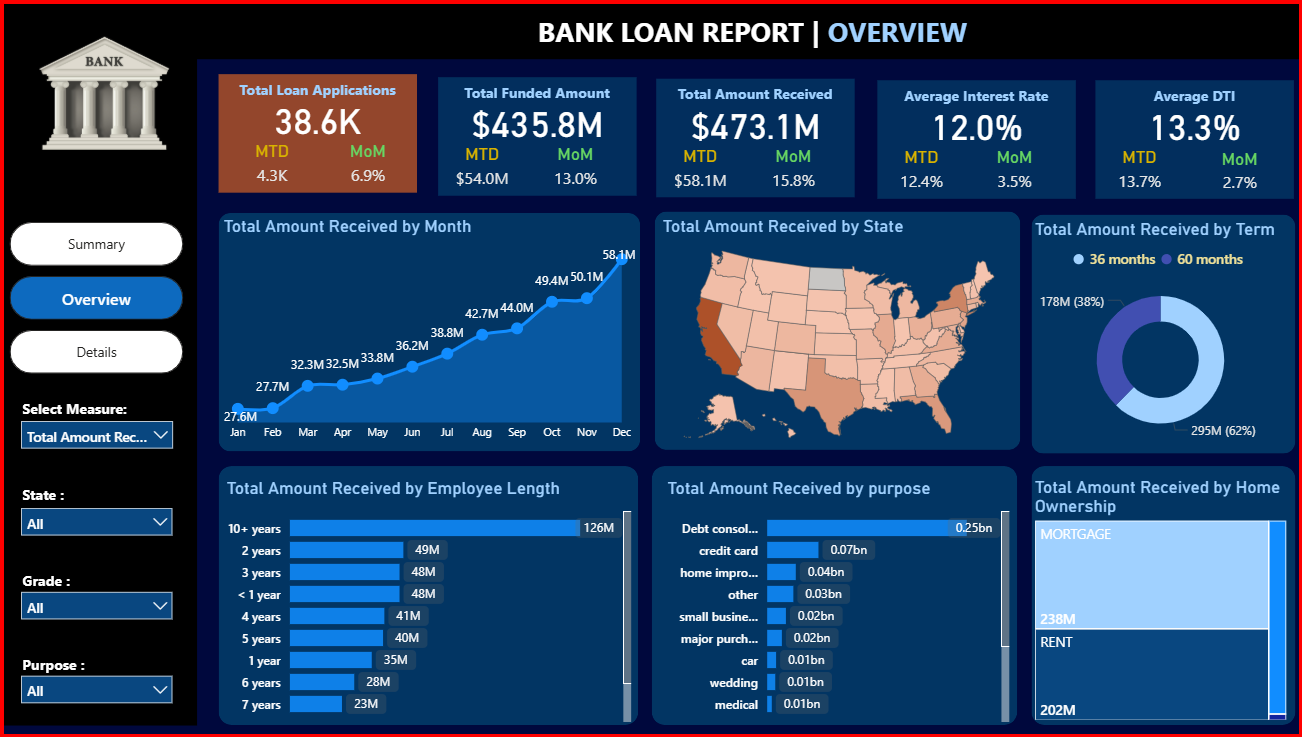

This screenshot's page, from the dashboard's own definition file:
{"tool":"powerbi","page":{"name":"Overview","canvas":[1280,720],"ordinal":1},"visuals":[{"type":"textbox","title":"Total Loan Applications","box":[213.6,69.7,195.1,116.7],"z":0,"group":"g1"},{"type":"textbox","title":"Total Loan Applications","box":[429.3,72.3,195.1,116.7],"z":0,"group":"g2"},{"type":"textbox","title":"Total Loan Applications","box":[644.5,73.3,195.1,116.7],"z":0,"group":"g3"},{"type":"textbox","title":"Total Loan Applications","box":[1076.7,75.6,195.1,116.7],"z":0,"group":"g5"},{"type":"textbox","title":"Total Loan Applications","box":[861.4,75.8,195.1,116.7],"z":0,"group":"g4"},{"type":"shape","box":[212.7,206.3,415.2,235],"z":0},{"type":"slicer","fields":{"Values":["Select Measure.Select Measure"]},"box":[9.7,401.3,169.5,48],"z":0,"group":"g6"},{"type":"slicer","fields":{"Values":["financial_loan.address_state"]},"box":[9.7,485.5,169,48.4],"z":0,"group":"g7"},{"type":"slicer","fields":{"Values":["financial_loan.grade"]},"box":[9.7,568.8,169,48],"z":0,"group":"g8"},{"type":"slicer","fields":{"Values":["financial_loan.purpose"]},"box":[9.7,652.1,169,48.4],"z":0,"group":"g9"},{"type":"shape","box":[0,0,1279.3,54.4],"z":1000},{"type":"card","fields":{"Values":["financial_loan.Total Loan Application"]},"box":[213.6,87.3,195.1,51.2],"z":1000,"group":"g1"},{"type":"card","fields":{"Values":["financial_loan.Total Funded Amount"]},"box":[429.3,89.9,195.1,51.2],"z":1000,"group":"g2"},{"type":"card","fields":{"Values":["financial_loan.Total Amount"]},"box":[644.5,90.9,195.1,51.2],"z":1000,"group":"g3"},{"type":"card","fields":{"Values":["financial_loan.Average DTI"]},"box":[1076.7,93.2,195.1,51.2],"z":1000,"group":"g5"},{"type":"card","fields":{"Values":["financial_loan.Average Interest"]},"box":[861.4,93.4,195.1,51.2],"z":1000,"group":"g4"},{"type":"textbox","box":[15.6,383.5,170,34.4],"z":1000,"group":"g6"},{"type":"textbox","box":[15.6,467.9,181.1,35.6],"z":1000,"group":"g7"},{"type":"textbox","box":[15.6,552.6,181.1,34.4],"z":1000,"group":"g8"},{"type":"textbox","box":[15.6,635.6,181.1,34.4],"z":1000,"group":"g9"},{"type":"shape","box":[0,38.7,192.1,671.4],"z":2000},{"type":"textbox","box":[213.6,69.7,195.1,33.6],"z":2000,"group":"g1"},{"type":"textbox","box":[429.3,72.3,195.1,33.6],"z":2000,"group":"g2"},{"type":"textbox","box":[644.5,73.3,195.1,33.6],"z":2000,"group":"g3"},{"type":"textbox","box":[1076.7,75.6,195.1,33.6],"z":2000,"group":"g5"},{"type":"textbox","box":[861.4,75.8,195.1,33.6],"z":2000,"group":"g4"},{"type":"textbox","box":[522.6,3.2,458.1,72.6],"z":3000},{"type":"card","title":"MTD","fields":{"Values":["financial_loan.MTD Loan Applications"]},"box":[238.9,135.1,54.2,51.6],"z":3000,"group":"g1"},{"type":"card","title":"MTD","fields":{"Values":["financial_loan.MTD Funded Amount"]},"box":[435.5,138.5,74.6,51.5],"z":3000,"group":"g2"},{"type":"card","title":"MTD","fields":{"Values":["financial_loan.MTD Amount Received"]},"box":[650.7,139.5,74.6,51.5],"z":3000,"group":"g3"},{"type":"card","title":"MTD","fields":{"Values":["financial_loan.MTD Average DTI"]},"box":[1082.9,141.8,74.6,51.5],"z":3000,"group":"g5"},{"type":"card","title":"MTD","fields":{"Values":["financial_loan.MTD Average"]},"box":[867.6,142,74.6,51.5],"z":3000,"group":"g4"},{"type":"group","id":"g1","title":"Group 1","box":[213.6,69.7,195.5,118.2],"z":4000},{"type":"card","title":"MoM","fields":{"Values":["financial_loan.MoM Loan Applications"]},"box":[334.4,135.9,53.6,50.9],"z":4000,"group":"g1"},{"type":"card","title":"MoM","fields":{"Values":["financial_loan.MoM Funded Amount"]},"box":[537.8,138.5,53.8,50.8],"z":4000,"group":"g2"},{"type":"card","title":"MoM","fields":{"Values":["financial_loan.MoM Amount Received"]},"box":[753,139.5,53.8,50.8],"z":4000,"group":"g3"},{"type":"card","title":"MoM","fields":{"Values":["financial_loan.MoM Average"]},"box":[969.9,142,53.8,50.8],"z":4000,"group":"g4"},{"type":"card","title":"MoM","fields":{"Values":["financial_loan.MoM Average DTI"]},"box":[1185.3,142.4,67.7,50],"z":4000,"group":"g5"},{"type":"group","id":"g2","title":"Group 2","box":[429.3,72.3,195.1,117.7],"z":5000},{"type":"group","id":"g3","title":"Group 2","box":[644.5,73.3,196.7,116.7],"z":6000},{"type":"group","id":"g4","title":"Group 2","box":[861.4,75.8,195.1,117.7],"z":7000},{"type":"group","id":"g5","title":"Group 2","box":[1076.7,75.6,195.1,117.7],"z":8000},{"type":"shape","box":[642.2,204.7,360,235],"z":9000},{"type":"shape","box":[1013.3,206.7,260,235.6],"z":10000},{"type":"shape","box":[213.3,455,413.3,255],"z":11000},{"type":"areaChart","fields":{"Y":["financial_loan.Total Loan Application"],"Category":["Date Table.Month"]},"box":[213.3,208.9,415.6,231.1],"z":12000},{"type":"shape","box":[640,455,360,255],"z":13000},{"type":"shape","box":[1013.3,455,260,255],"z":14000},{"type":"shapeMap","fields":{"Value":["financial_loan.Total Loan Application"],"Category":["financial_loan.address_state"]},"box":[645.6,208.9,356.7,233.3],"z":15000},{"type":"donutChart","fields":{"Y":["financial_loan.Total Loan Application"],"Category":["financial_loan.term"]},"box":[1012,211.4,256.6,229.2],"z":16000},{"type":"clusteredBarChart","fields":{"Y":["financial_loan.Total Loan Application"],"Category":["financial_loan.emp_length"]},"box":[216.7,466.7,408.3,245],"z":17000},{"type":"clusteredBarChart","fields":{"Y":["financial_loan.Total Loan Application"],"Category":["financial_loan.purpose"]},"box":[650,466.7,346.7,245],"z":18000},{"type":"treemap","fields":{"Values":["financial_loan.Total Loan Application"],"Group":["financial_loan.home_ownership"]},"box":[1012.5,466.1,257.1,244.6],"z":19000},{"type":"image","box":[30.9,0,138.2,175.5],"z":20000},{"type":"pageNavigator","box":[8.1,214.7,171.1,150.1],"z":21000},{"type":"group","id":"g6","title":"Group 3","box":[9.7,383.5,175.9,65.8],"z":22000},{"type":"group","id":"g7","title":"Group 4","box":[9.7,467.9,187,66],"z":23000},{"type":"group","id":"g8","title":"Group 5","box":[9.7,552.6,187,64.2],"z":24000},{"type":"group","id":"g9","title":"Group 6","box":[9.7,635.6,187,64.9],"z":25000}]}

Visuals, with their boxes in screenshot pixels (x1, y1, x2, y2), scaled from the page's 1280x720 canvas onto the 1302x737 screenshot:
"Total Loan Applications" textbox: [x1=217, y1=71, x2=416, y2=191]
"Total Loan Applications" textbox: [x1=437, y1=74, x2=635, y2=193]
"Total Loan Applications" textbox: [x1=656, y1=75, x2=854, y2=194]
"Total Loan Applications" textbox: [x1=1095, y1=77, x2=1294, y2=197]
"Total Loan Applications" textbox: [x1=876, y1=78, x2=1075, y2=197]
shape: [x1=216, y1=211, x2=639, y2=452]
slicer - Select Measure.Select Measure: [x1=10, y1=411, x2=182, y2=460]
slicer - financial_loan.address_state: [x1=10, y1=497, x2=182, y2=547]
slicer - financial_loan.grade: [x1=10, y1=582, x2=182, y2=631]
slicer - financial_loan.purpose: [x1=10, y1=667, x2=182, y2=717]
shape: [x1=0, y1=0, x2=1301, y2=56]
card - financial_loan.Total Loan Application: [x1=217, y1=89, x2=416, y2=142]
card - financial_loan.Total Funded Amount: [x1=437, y1=92, x2=635, y2=144]
card - financial_loan.Total Amount: [x1=656, y1=93, x2=854, y2=145]
card - financial_loan.Average DTI: [x1=1095, y1=95, x2=1294, y2=148]
card - financial_loan.Average Interest: [x1=876, y1=96, x2=1075, y2=148]
textbox: [x1=16, y1=393, x2=189, y2=428]
textbox: [x1=16, y1=479, x2=200, y2=515]
textbox: [x1=16, y1=566, x2=200, y2=601]
textbox: [x1=16, y1=651, x2=200, y2=686]
shape: [x1=0, y1=40, x2=195, y2=727]
textbox: [x1=217, y1=71, x2=416, y2=106]
textbox: [x1=437, y1=74, x2=635, y2=108]
textbox: [x1=656, y1=75, x2=854, y2=109]
textbox: [x1=1095, y1=77, x2=1294, y2=112]
textbox: [x1=876, y1=78, x2=1075, y2=112]
textbox: [x1=532, y1=3, x2=998, y2=78]
"MTD" card: [x1=243, y1=138, x2=298, y2=191]
"MTD" card: [x1=443, y1=142, x2=519, y2=194]
"MTD" card: [x1=662, y1=143, x2=738, y2=196]
"MTD" card: [x1=1102, y1=145, x2=1177, y2=198]
"MTD" card: [x1=883, y1=145, x2=958, y2=198]
"Group 1" group: [x1=217, y1=71, x2=416, y2=192]
"MoM" card: [x1=340, y1=139, x2=395, y2=191]
"MoM" card: [x1=547, y1=142, x2=602, y2=194]
"MoM" card: [x1=766, y1=143, x2=821, y2=195]
"MoM" card: [x1=987, y1=145, x2=1041, y2=197]
"MoM" card: [x1=1206, y1=146, x2=1275, y2=197]
"Group 2" group: [x1=437, y1=74, x2=635, y2=194]
"Group 2" group: [x1=656, y1=75, x2=856, y2=194]
"Group 2" group: [x1=876, y1=78, x2=1075, y2=198]
"Group 2" group: [x1=1095, y1=77, x2=1294, y2=198]
shape: [x1=653, y1=210, x2=1019, y2=450]
shape: [x1=1031, y1=212, x2=1295, y2=453]
shape: [x1=217, y1=466, x2=637, y2=727]
areaChart - financial_loan.Total Loan Application x Date Table.Month: [x1=217, y1=214, x2=640, y2=450]
shape: [x1=651, y1=466, x2=1017, y2=727]
shape: [x1=1031, y1=466, x2=1295, y2=727]
shapeMap - financial_loan.Total Loan Application x financial_loan.address_state: [x1=657, y1=214, x2=1020, y2=453]
donutChart - financial_loan.Total Loan Application x financial_loan.term: [x1=1029, y1=216, x2=1290, y2=451]
clusteredBarChart - financial_loan.Total Loan Application x financial_loan.emp_length: [x1=220, y1=478, x2=636, y2=729]
clusteredBarChart - financial_loan.Total Loan Application x financial_loan.purpose: [x1=661, y1=478, x2=1014, y2=729]
treemap - financial_loan.Total Loan Application x financial_loan.home_ownership: [x1=1030, y1=477, x2=1291, y2=727]
image: [x1=31, y1=0, x2=172, y2=180]
pageNavigator: [x1=8, y1=220, x2=182, y2=373]
"Group 3" group: [x1=10, y1=393, x2=189, y2=460]
"Group 4" group: [x1=10, y1=479, x2=200, y2=547]
"Group 5" group: [x1=10, y1=566, x2=200, y2=631]
"Group 6" group: [x1=10, y1=651, x2=200, y2=717]
